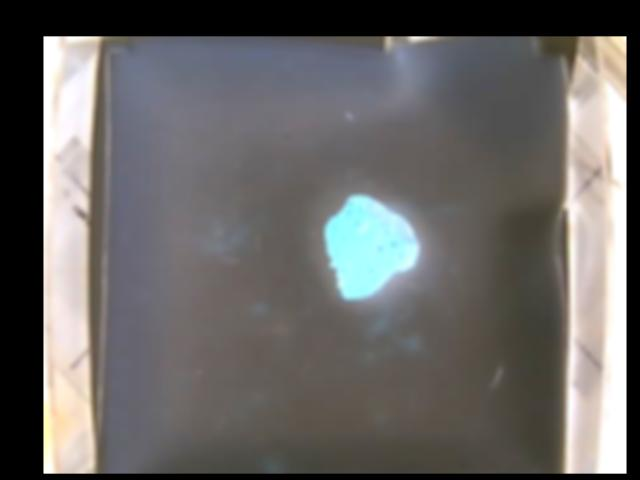Brisk: (323, 193, 417, 300)
